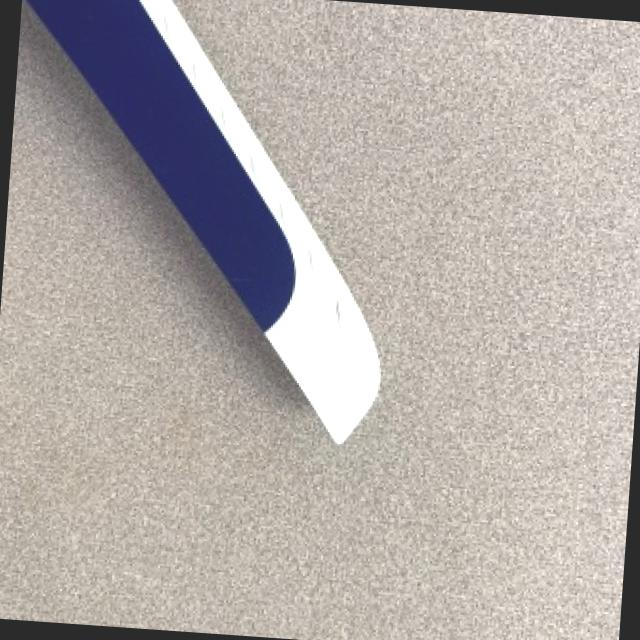healthy: (30, 0, 379, 441)
